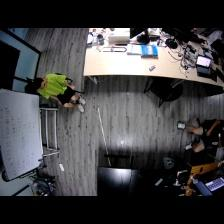normal: (30, 73, 89, 113), (172, 114, 224, 155)
